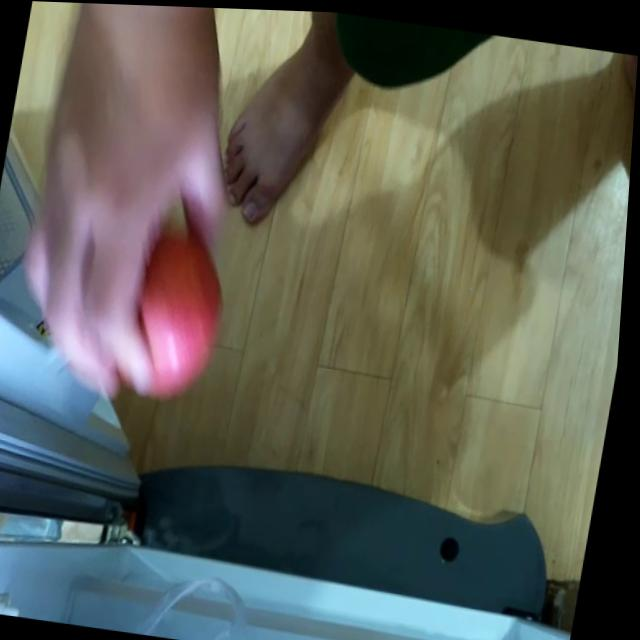apple: (125, 223, 240, 396)
